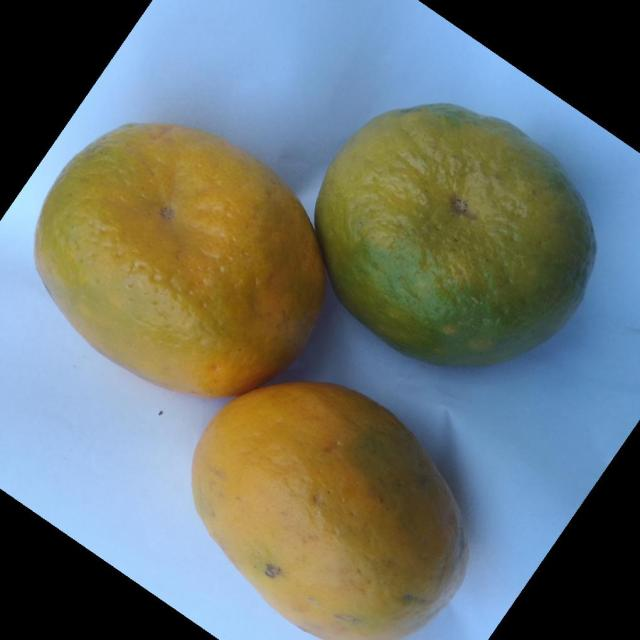fresh orange: (33, 120, 326, 398), (313, 100, 597, 368), (190, 379, 469, 638)
